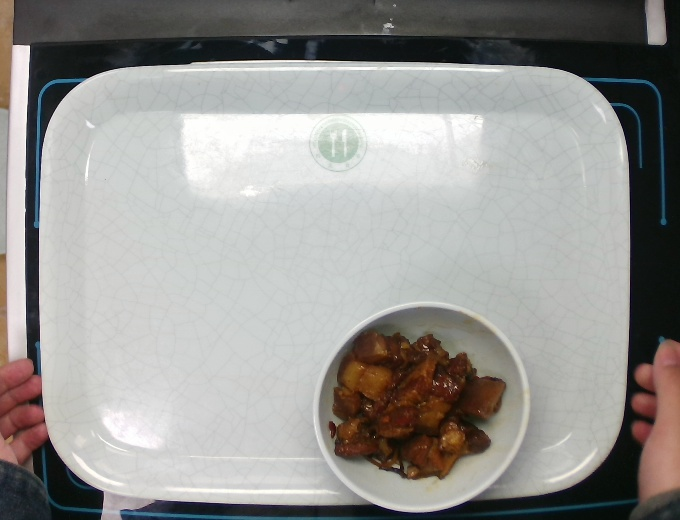JYsf-Fan_Wan: (306, 298, 536, 516)
